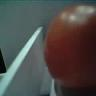tomato: (43, 2, 96, 93)
